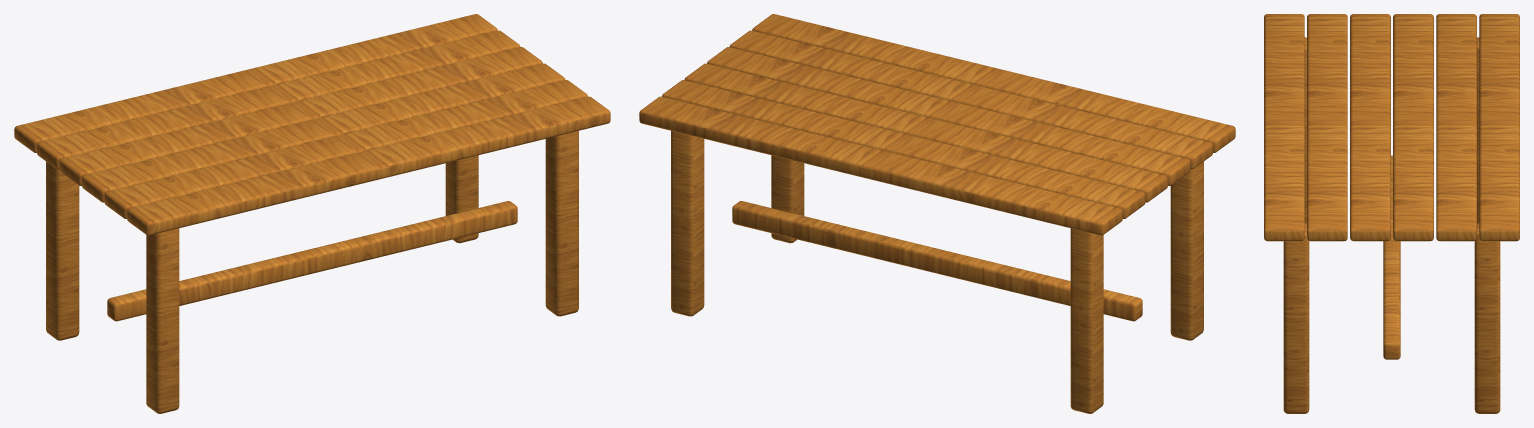
The model's file is patio-dining-table.glb.
3 renders of one model, left to right at view 1: azimuth 30°, elevation 25°; view 2: azimuth 150°, elevation 25°; view 3: azimuth 270°, elevation 25°, orthographic. The views are drawn at different scales.
Visible parts, largest first — view 1: patio-dining-table; view 2: patio-dining-table; view 3: patio-dining-table.
Part boxes in pixels (x1,y1,x2,y2): patio-dining-table: [14, 14, 610, 413]; patio-dining-table: [639, 14, 1235, 413]; patio-dining-table: [1264, 14, 1519, 413].
Size of the model in its own units: 1.8 by 0.76 by 0.9.
1 material, 1 textured.
